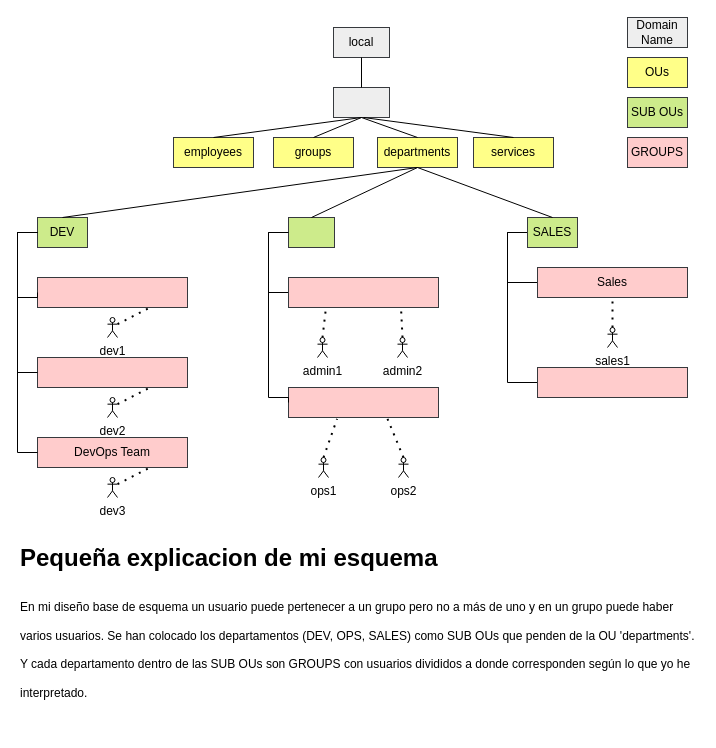
This 716x748 diagram has some shape labels left out. Here are the shapes that lost their labels. From the top down, the centre of each, then its label:
(x=361, y=102): aaldaw
(x=311, y=232): OPS
(x=112, y=292): Backend Team
(x=363, y=292): System Administrator
(x=112, y=372): Frontend Team
(x=612, y=382): Marketing
(x=363, y=402): Technical Support
